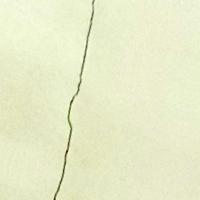crack: (32, 0, 122, 199)
